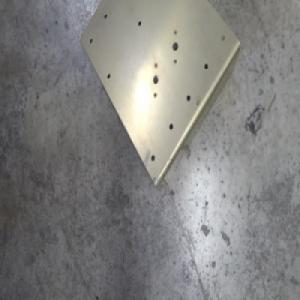MetalSheet: (78, 0, 240, 191)
